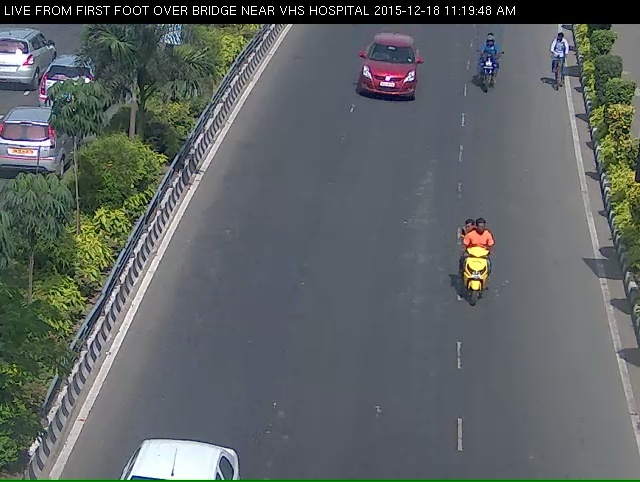Car: (351, 41, 418, 114)
Person: (458, 239, 506, 338), (472, 37, 505, 101)
